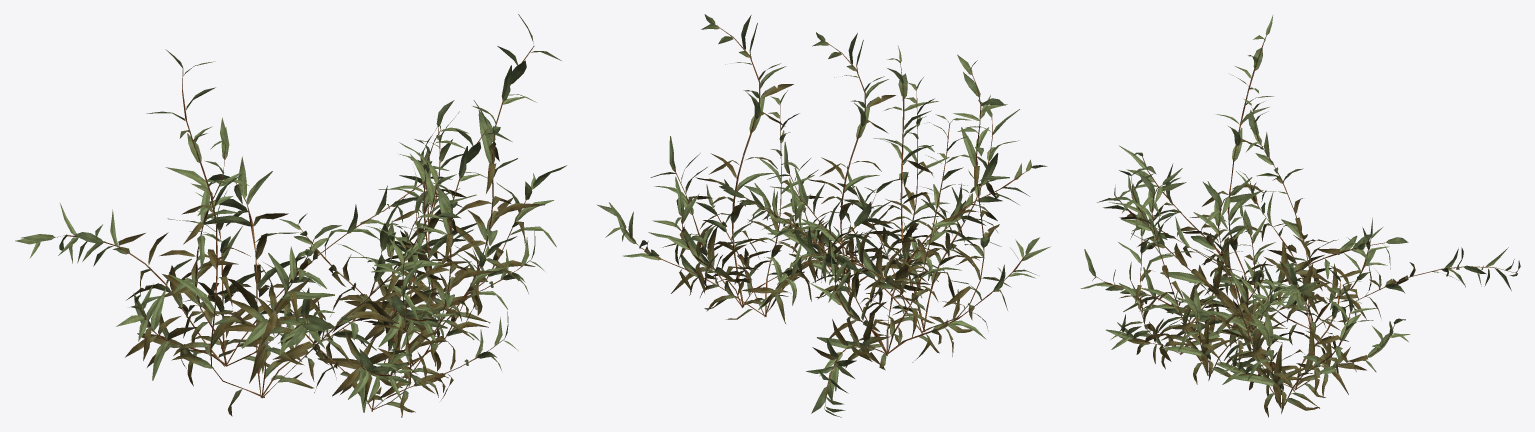
Rendered from shrubs.glb.
The picture shows the model from 3 angles, left to right: view 1: azimuth 30°, elevation 25°; view 2: azimuth 150°, elevation 25°; view 3: azimuth 270°, elevation 25°; orthographic projection. The views are drawn at different scales.
Parts seen in each view (by area): view 1: bush_a_lod0, bush_b_lod0; view 2: bush_b_lod0, bush_a_lod0; view 3: bush_b_lod0, bush_a_lod0.
Part boxes in pixels (x1,y1,x2,y2): bush_a_lod0: (146,49,544,416); bush_b_lod0: (15,14,566,417); bush_b_lod0: (648,14,1050,417); bush_a_lod0: (597,32,1019,333); bush_b_lod0: (1097,99,1520,417); bush_a_lod0: (1080,15,1410,405).
Size of what is drawn, in the model's own units: 1.65 by 1.25 by 1.75.
1 material, 1 textured.
